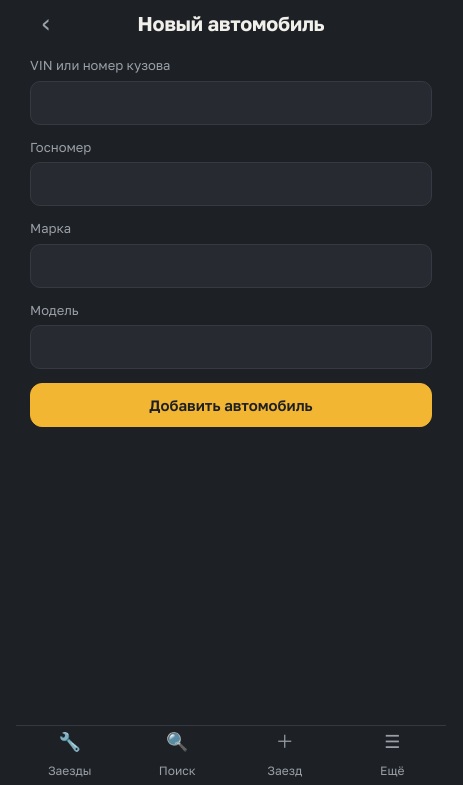
Test case: duplicate VIN shows at the VIN field
This screenshot has width=463, height=785.
Type "JTDBR32E720012345" into the field labelled "VIN или номер кузова" at (231, 102), box [30,80,432,124]
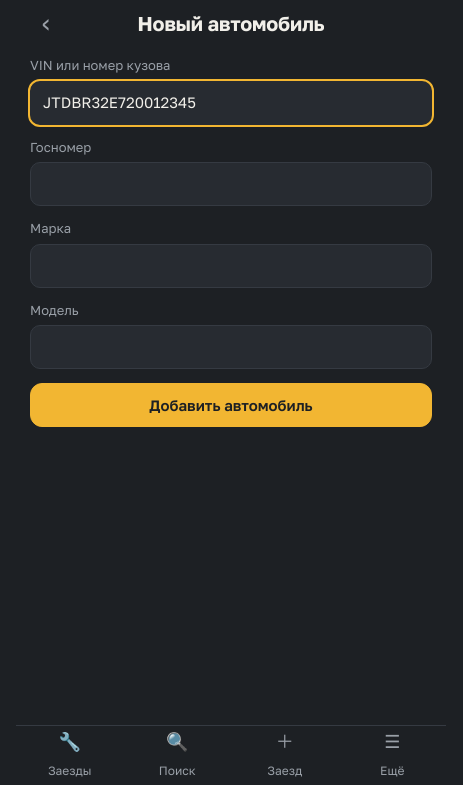
Type "А123ВС77" into the field labelled "Госномер" at (231, 184), box [30,162,432,206]
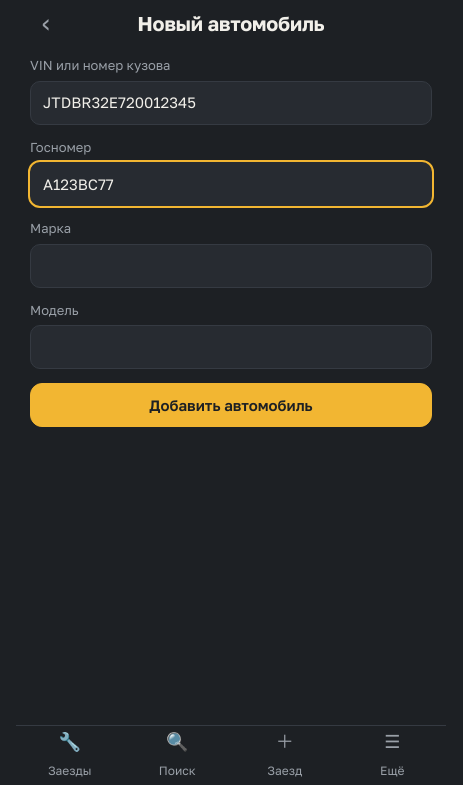
Type "Toyota" into the field labelled "Марка" at (231, 266), box [30,244,432,288]
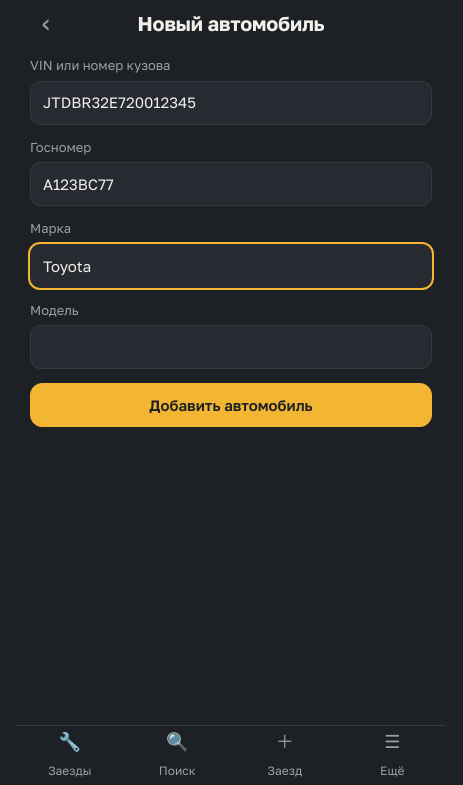
Type "Camry" into the field labelled "Модель" at (231, 347), box [30,325,432,369]
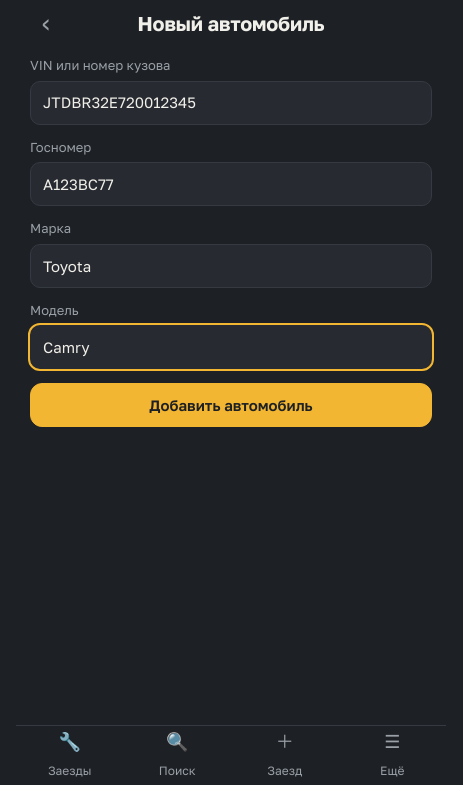
Click the button "Добавить автомобиль" at (231, 405), box [30,383,432,427]
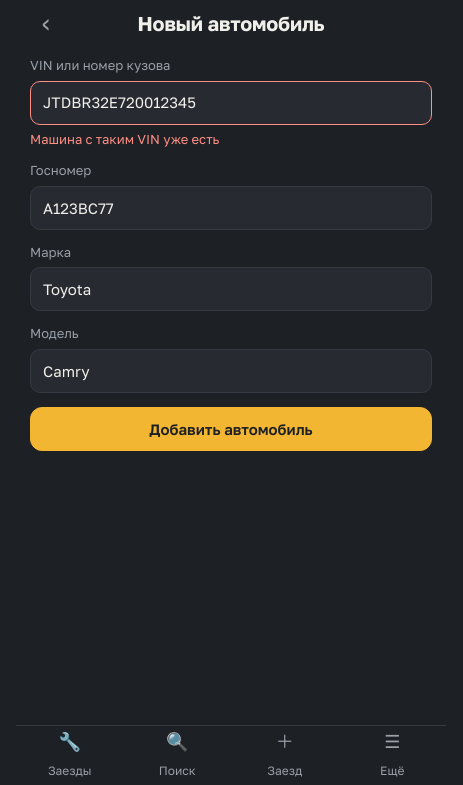
Now the text "Машина с таким VIN уже есть" is shown, box [30,130,219,146]
